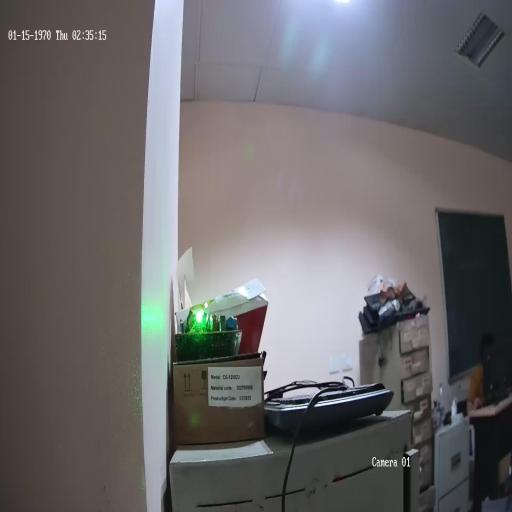laser: (192, 304, 206, 328)
